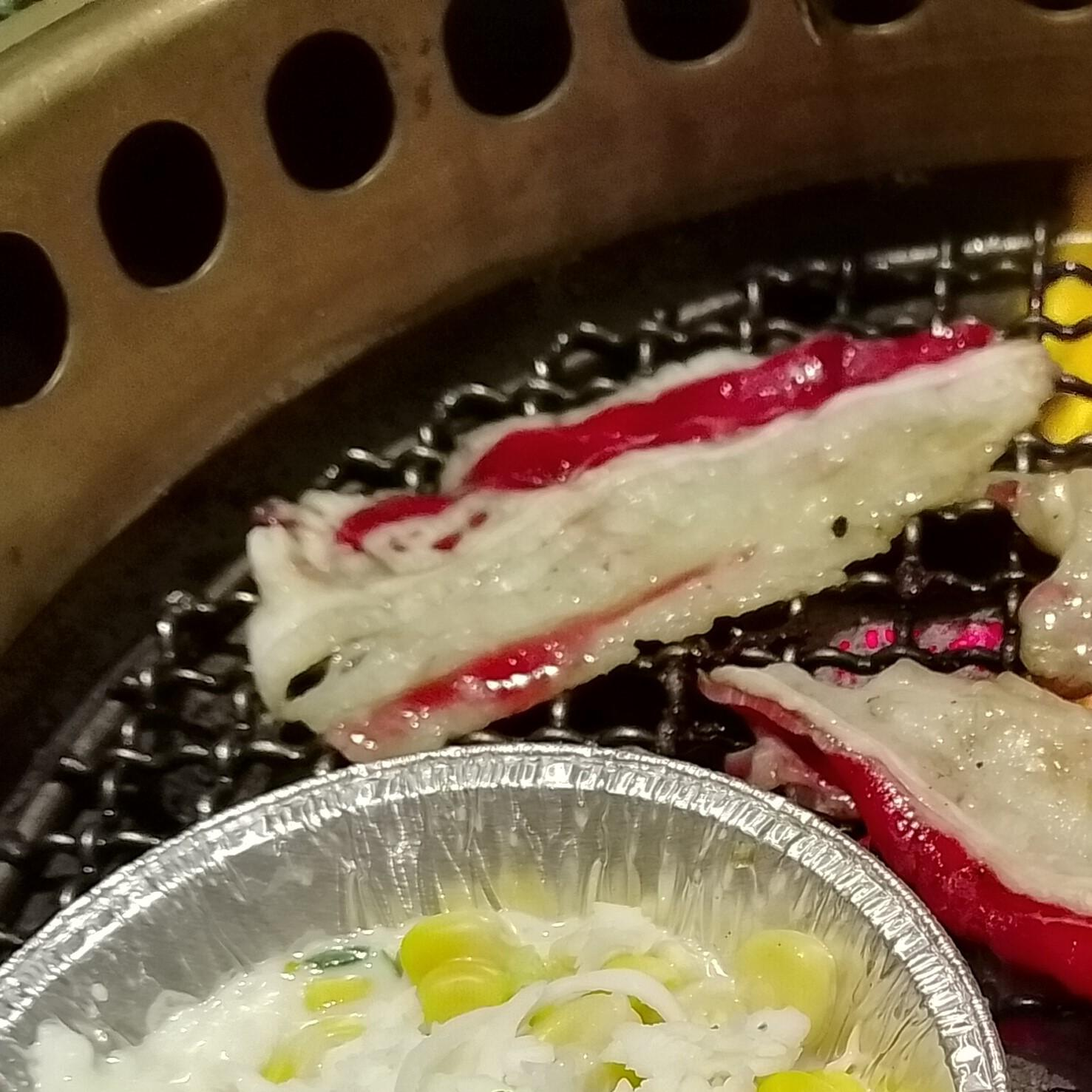Undercooked: (245, 322, 1054, 762), (703, 663, 1091, 997)
